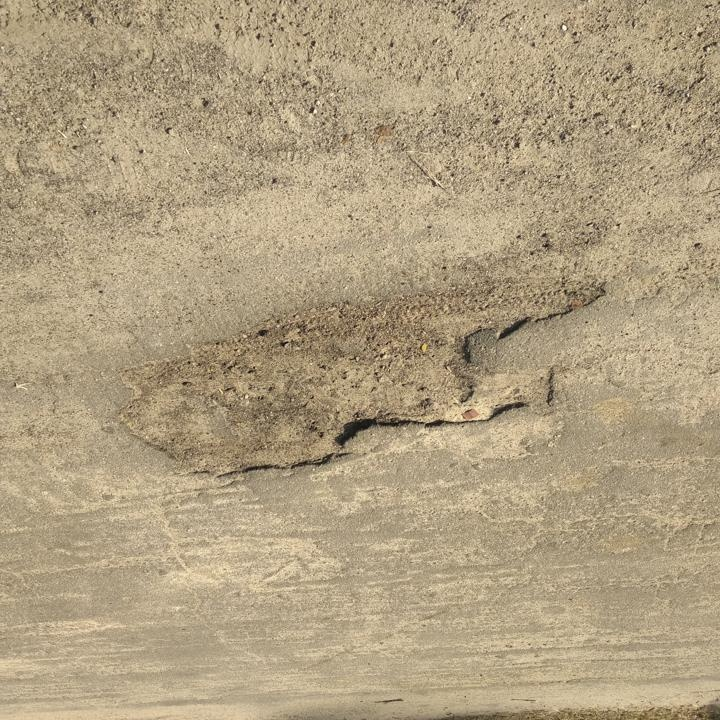pothole: (111, 271, 615, 485)
